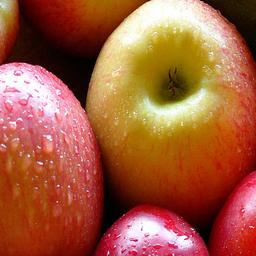apple: (88, 1, 254, 231), (1, 63, 103, 254)
